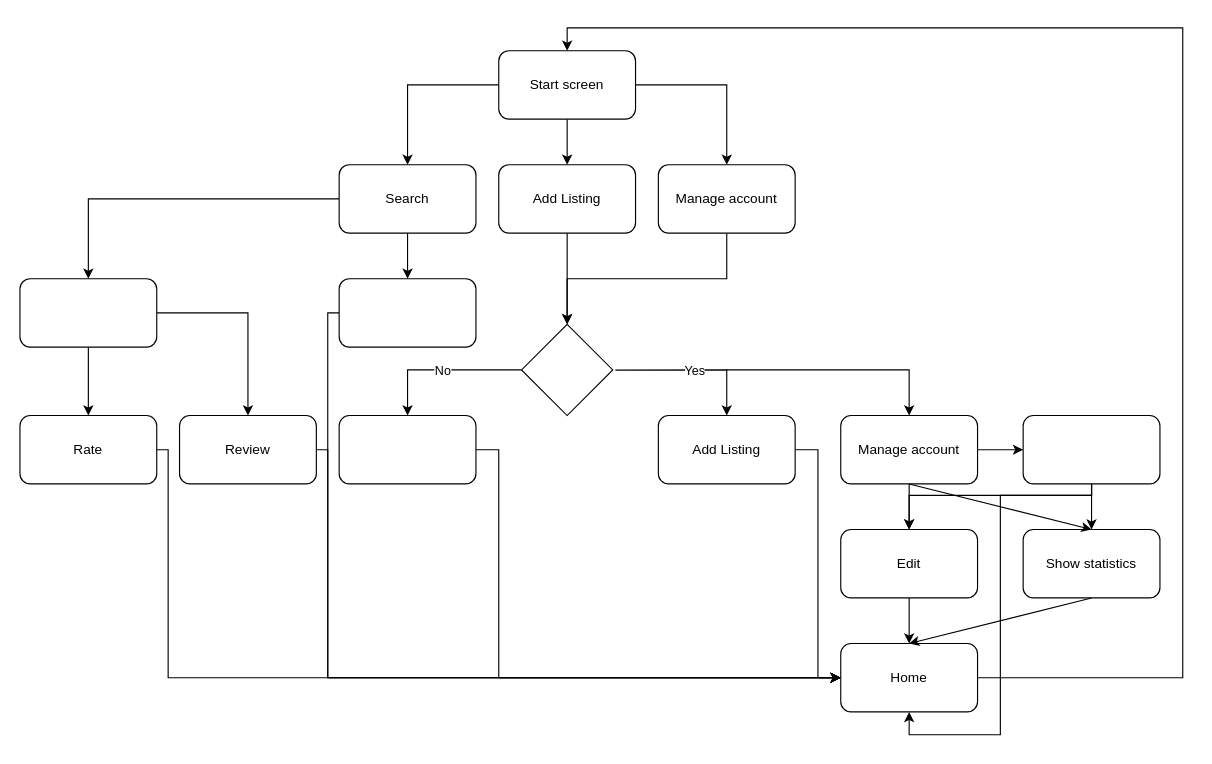
This 1212x764 diagram has some shape labels left out. Each missing label, with the centre of its shape:
Comment: (407,312)
Logged in?: (566,369)
Register: (407,449)
See author: (88,312)
Show listings: (1091,449)
